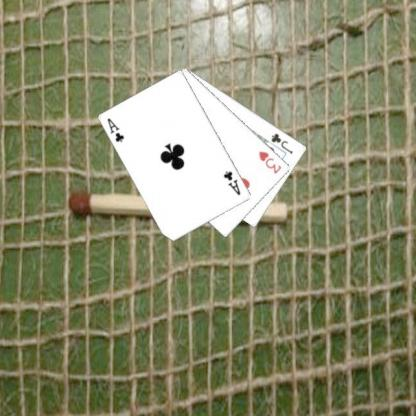3H: (256, 148, 283, 176)
AC: (220, 168, 242, 197), (104, 115, 126, 144)
JC: (268, 130, 295, 156)
